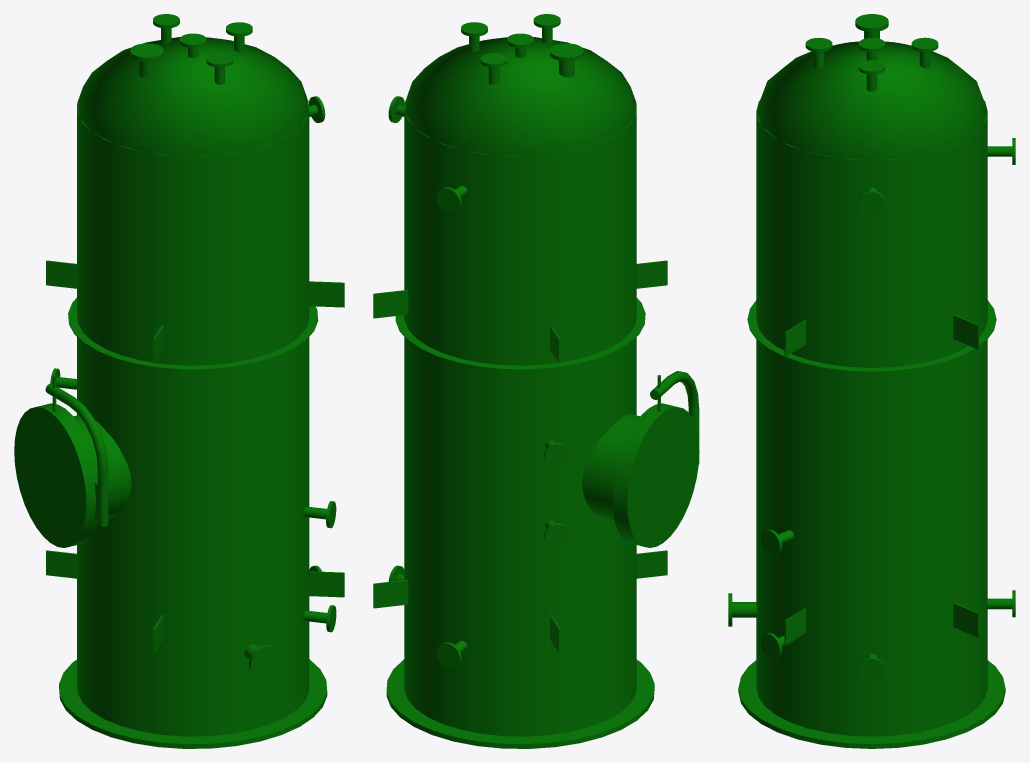
File: Image-1710907682107-2280643367040_42-VL55.fbx
3 views of the same model, side by side, from view 1: azimuth 30°, elevation 25°; view 2: azimuth 150°, elevation 25°; view 3: azimuth 270°, elevation 25° (orthographic).
Parts seen in each view (by area): view 1: CYLINDER 1 of SUBEQUIPMENT /42-VL55/PRIM, CYLINDER 2 of SUBEQUIPMENT /42-VL55/SKIRT, DISH 1 of SUBEQUIPMENT /42-VL55/PRIM, CYLINDER 5 of SUBEQUIPMENT /42-VL55/NOZZ, CYLINDER 1 of SUBEQUIPMENT /42-VL55/SKIRT, /42-VL55/M1, CYLINDER 2 of SUBEQUIPMENT /42-VL55/PRIM, /42-VL55/N7, BOX 3 of SUBEQUIPMENT /42-VL55/CLEATS, CTORUS 5 of SUBEQUIPMENT /42-VL55/NOZZ, BOX 4 of SUBEQUIPMENT /42-VL55/CLEATS, BOX 5 of SUBEQUIPMENT /42-VL55/CLEATS (+3 smaller); view 2: CYLINDER 1 of SUBEQUIPMENT /42-VL55/PRIM, CYLINDER 2 of SUBEQUIPMENT /42-VL55/SKIRT, DISH 1 of SUBEQUIPMENT /42-VL55/PRIM, CYLINDER 5 of SUBEQUIPMENT /42-VL55/NOZZ, CYLINDER 1 of SUBEQUIPMENT /42-VL55/SKIRT, /42-VL55/M1, CYLINDER 2 of SUBEQUIPMENT /42-VL55/PRIM, BOX 8 of SUBEQUIPMENT /42-VL55/CLEATS, BOX 7 of SUBEQUIPMENT /42-VL55/CLEATS, BOX 2 of SUBEQUIPMENT /42-VL55/CLEATS, BOX 1 of SUBEQUIPMENT /42-VL55/CLEATS, /42-VL55/N5 (+5 smaller); view 3: CYLINDER 1 of SUBEQUIPMENT /42-VL55/PRIM, CYLINDER 2 of SUBEQUIPMENT /42-VL55/SKIRT, DISH 1 of SUBEQUIPMENT /42-VL55/PRIM, CYLINDER 1 of SUBEQUIPMENT /42-VL55/SKIRT, CYLINDER 2 of SUBEQUIPMENT /42-VL55/PRIM, BOX 8 of SUBEQUIPMENT /42-VL55/CLEATS, BOX 7 of SUBEQUIPMENT /42-VL55/CLEATS, /42-VL55/N5, /42-VL55/N1, /42-VL55/N2, /42-VL55/N8, BOX 4 of SUBEQUIPMENT /42-VL55/CLEATS (+6 smaller).
Part boxes in pixels (bbox=[...]): CYLINDER 1 of SUBEQUIPMENT /42-VL55/PRIM: bbox=[77, 99, 309, 575]; CYLINDER 2 of SUBEQUIPMENT /42-VL55/SKIRT: bbox=[77, 530, 309, 736]; DISH 1 of SUBEQUIPMENT /42-VL55/PRIM: bbox=[77, 37, 308, 156]; CYLINDER 5 of SUBEQUIPMENT /42-VL55/NOZZ: bbox=[14, 405, 93, 547]; CYLINDER 1 of SUBEQUIPMENT /42-VL55/SKIRT: bbox=[59, 659, 327, 748]; /42-VL55/M1: bbox=[44, 403, 131, 544]; CYLINDER 2 of SUBEQUIPMENT /42-VL55/PRIM: bbox=[68, 298, 318, 370]; /42-VL55/N7: bbox=[244, 644, 279, 677]; BOX 3 of SUBEQUIPMENT /42-VL55/CLEATS: bbox=[309, 281, 344, 307]; CTORUS 5 of SUBEQUIPMENT /42-VL55/NOZZ: bbox=[67, 397, 108, 471]; BOX 4 of SUBEQUIPMENT /42-VL55/CLEATS: bbox=[309, 571, 344, 597]; BOX 5 of SUBEQUIPMENT /42-VL55/CLEATS: bbox=[46, 260, 76, 288]; CYLINDER 1 of SUBEQUIPMENT /42-VL55/PRIM: bbox=[404, 99, 636, 575]; CYLINDER 2 of SUBEQUIPMENT /42-VL55/SKIRT: bbox=[404, 530, 636, 736]; DISH 1 of SUBEQUIPMENT /42-VL55/PRIM: bbox=[405, 37, 636, 156]; CYLINDER 5 of SUBEQUIPMENT /42-VL55/NOZZ: bbox=[620, 405, 699, 547]; CYLINDER 1 of SUBEQUIPMENT /42-VL55/SKIRT: bbox=[386, 659, 654, 748]; /42-VL55/M1: bbox=[582, 403, 669, 544]; CYLINDER 2 of SUBEQUIPMENT /42-VL55/PRIM: bbox=[395, 298, 645, 370]; BOX 8 of SUBEQUIPMENT /42-VL55/CLEATS: bbox=[373, 579, 408, 608]; BOX 7 of SUBEQUIPMENT /42-VL55/CLEATS: bbox=[373, 290, 408, 318]; BOX 2 of SUBEQUIPMENT /42-VL55/CLEATS: bbox=[636, 550, 667, 578]; BOX 1 of SUBEQUIPMENT /42-VL55/CLEATS: bbox=[636, 260, 667, 288]; /42-VL55/N5: bbox=[550, 43, 583, 77]; CYLINDER 1 of SUBEQUIPMENT /42-VL55/PRIM: bbox=[756, 99, 987, 576]; CYLINDER 2 of SUBEQUIPMENT /42-VL55/SKIRT: bbox=[756, 528, 987, 736]; DISH 1 of SUBEQUIPMENT /42-VL55/PRIM: bbox=[756, 41, 987, 160]; CYLINDER 1 of SUBEQUIPMENT /42-VL55/SKIRT: bbox=[738, 660, 1005, 748]; CYLINDER 2 of SUBEQUIPMENT /42-VL55/PRIM: bbox=[747, 300, 996, 372]; BOX 8 of SUBEQUIPMENT /42-VL55/CLEATS: bbox=[953, 602, 979, 637]; BOX 7 of SUBEQUIPMENT /42-VL55/CLEATS: bbox=[953, 314, 979, 349]; /42-VL55/N5: bbox=[855, 14, 888, 38]; /42-VL55/N1: bbox=[858, 187, 885, 216]; /42-VL55/N2: bbox=[858, 654, 885, 682]; /42-VL55/N8: bbox=[761, 529, 794, 555]; BOX 4 of SUBEQUIPMENT /42-VL55/CLEATS: bbox=[784, 608, 806, 644].
Bounding box in the file's own units: 1.75 × 1.63 × 4.06.
